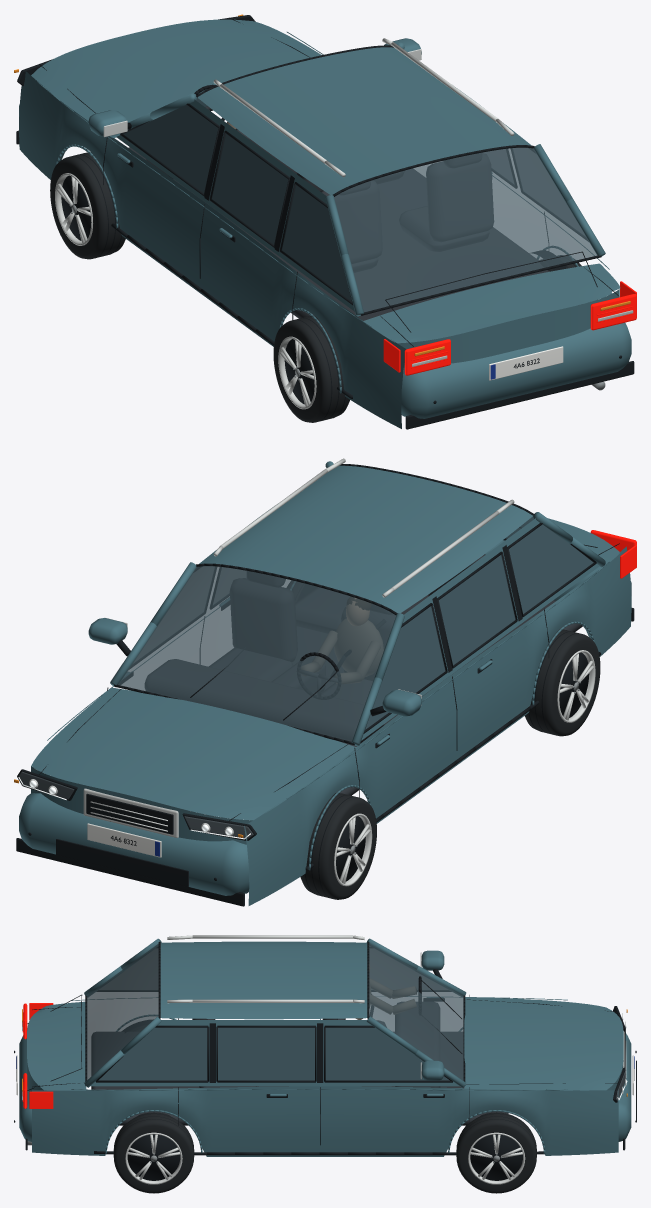
The model's file is car.glb.
The picture shows the model from 3 angles, top to bottom: view 1: azimuth 30°, elevation 25°; view 2: azimuth 150°, elevation 25°; view 3: azimuth 270°, elevation 25°; orthographic projection. The views are drawn at different scales.
Visible parts, largest first — view 1: dynamic_body_Metallic car body paint, dynamic_body_Car clear tinted glass, dynamic_body_Automotive charcoal upholstery, dynamic_body_Recessed automotive panel seams, wheel_RL_Tyre rubber with satin sidewalls, wheel_FL_Tyre rubber with satin sidewalls, dynamic_body_Rear brake lamps, dynamic_body_Chrome trim, wheel_RL_Chrome trim, wheel_FL_Chrome trim, wheel_RL_Recessed automotive panel seams, wheel_FL_Recessed automotive panel seams (+1 smaller); view 2: dynamic_body_Metallic car body paint, dynamic_body_Car clear tinted glass, dynamic_body_Automotive charcoal upholstery, dynamic_body_Recessed automotive panel seams, wheel_FL_Tyre rubber with satin sidewalls, wheel_RL_Tyre rubber with satin sidewalls, dynamic_body_Chrome trim, dynamic_body_Coat fabric, wheel_FL_Chrome trim, wheel_RL_Chrome trim, wheel_FL_Recessed automotive panel seams, wheel_RL_Recessed automotive panel seams (+3 smaller); view 3: dynamic_body_Metallic car body paint, dynamic_body_Car clear tinted glass, dynamic_body_Recessed automotive panel seams, dynamic_body_Automotive charcoal upholstery, wheel_RR_Tyre rubber with satin sidewalls, wheel_FR_Tyre rubber with satin sidewalls, dynamic_body_Chrome trim, wheel_RR_Recessed automotive panel seams, wheel_FR_Recessed automotive panel seams, wheel_RR_Chrome trim, wheel_FR_Chrome trim, dynamic_body_Rear brake lamps (+1 smaller).
Part boxes in pixels (left/top/right/bottom): dynamic_body_Metallic car body paint: left=19, top=19, right=631, bottom=428; dynamic_body_Car clear tinted glass: left=123, top=98, right=597, bottom=312; dynamic_body_Automotive charcoal upholstery: left=128, top=106, right=549, bottom=342; dynamic_body_Recessed automotive panel seams: left=16, top=15, right=634, bottom=429; wheel_RL_Tyre rubber with satin sidewalls: left=273, top=316, right=349, bottom=422; wheel_FL_Tyre rubber with satin sidewalls: left=50, top=152, right=125, bottom=259; dynamic_body_Rear brake lamps: left=383, top=281, right=636, bottom=375; dynamic_body_Chrome trim: left=103, top=38, right=514, bottom=177; wheel_RL_Chrome trim: left=278, top=336, right=316, bottom=409; wheel_FL_Chrome trim: left=55, top=173, right=92, bottom=245; wheel_RL_Recessed automotive panel seams: left=284, top=316, right=345, bottom=420; wheel_FL_Recessed automotive panel seams: left=61, top=152, right=121, bottom=258; dynamic_body_Metallic car body paint: left=19, top=461, right=631, bottom=905; dynamic_body_Car clear tinted glass: left=118, top=516, right=593, bottom=741; dynamic_body_Automotive charcoal upholstery: left=145, top=554, right=582, bottom=795; dynamic_body_Recessed automotive panel seams: left=16, top=464, right=634, bottom=906; wheel_FL_Tyre rubber with satin sidewalls: left=300, top=793, right=376, bottom=899; wheel_RL_Tyre rubber with satin sidewalls: left=525, top=629, right=600, bottom=736; dynamic_body_Chrome trim: left=29, top=458, right=514, bottom=837; dynamic_body_Coat fabric: left=301, top=618, right=383, bottom=683; wheel_FL_Chrome trim: left=334, top=813, right=372, bottom=886; wheel_RL_Chrome trim: left=557, top=650, right=595, bottom=722; wheel_FL_Recessed automotive panel seams: left=304, top=793, right=365, bottom=898; wheel_RL_Recessed automotive panel seams: left=528, top=629, right=589, bottom=733; dynamic_body_Metallic car body paint: left=19, top=938, right=631, bottom=1156; dynamic_body_Car clear tinted glass: left=87, top=943, right=463, bottom=1080; dynamic_body_Recessed automotive panel seams: left=14, top=941, right=636, bottom=1155; dynamic_body_Automotive charcoal upholstery: left=91, top=1002, right=508, bottom=1125; wheel_RR_Tyre rubber with satin sidewalls: left=113, top=1112, right=194, bottom=1193; wheel_FR_Tyre rubber with satin sidewalls: left=456, top=1112, right=536, bottom=1193; dynamic_body_Chrome trim: left=167, top=935, right=626, bottom=1094; wheel_RR_Recessed automotive panel seams: left=114, top=1113, right=193, bottom=1180; wheel_FR_Recessed automotive panel seams: left=457, top=1113, right=536, bottom=1180; wheel_RR_Chrome trim: left=125, top=1132, right=182, bottom=1184; wheel_FR_Chrome trim: left=468, top=1132, right=525, bottom=1184; dynamic_body_Rear brake lamps: left=22, top=1003, right=53, bottom=1108.
Size of the model in its own units: 2.27 by 1.53 by 4.93.
